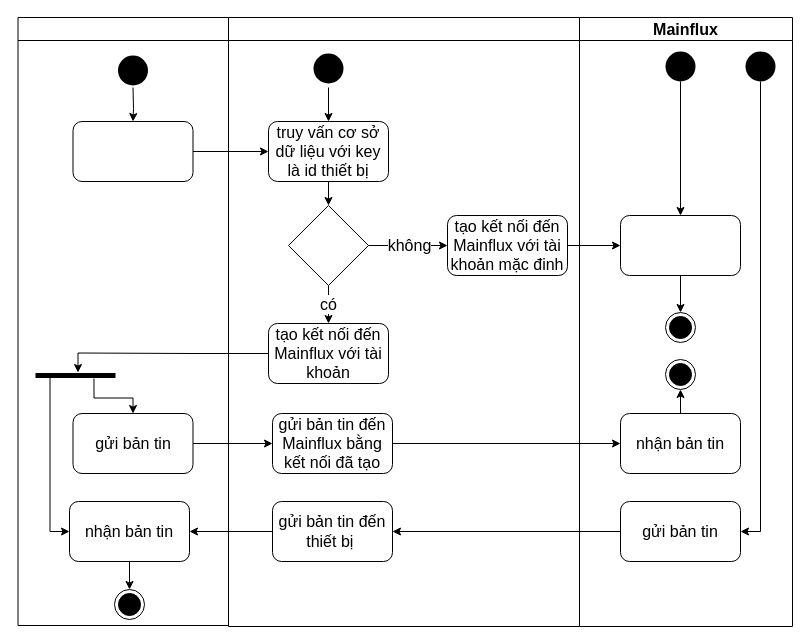
This 810x644 diagram has some shape labels left out. The box of each missing label's shape, as (x1, y1, x2, y2) in pixels:
Adapter: (228, 16, 580, 626)
Kết nối đến adapter bằng giao thức mqtt: (72, 120, 193, 182)
Thiết bị: (17, 16, 228, 626)
tìm thấy: (288, 204, 368, 286)
tạo tên đăng nhập, mật khẩu, kênh cho thiết bị: (620, 214, 740, 276)
